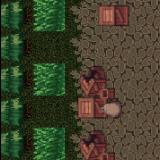Hide: (90, 0, 136, 36)
Obstacle: (64, 63, 125, 127), (64, 127, 125, 160), (0, 127, 32, 160), (0, 32, 32, 64), (0, 96, 32, 127), (0, 65, 32, 96), (0, 0, 32, 30)
Slow: (32, 62, 64, 96), (32, 127, 64, 160), (32, 0, 64, 31)
